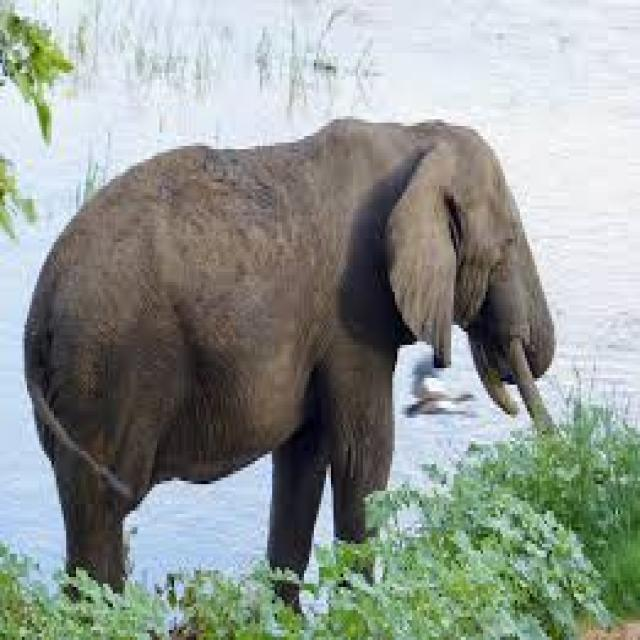Elephant: (22, 113, 557, 617)
